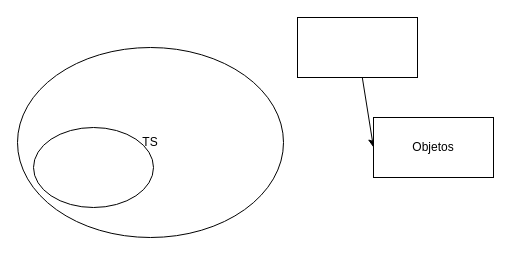
This 511x255 diagram has some shape labels left out. The centre of each missing label's shape, as x and y in pixels:
"CLASE" goes at (357,47).
"JS" goes at (93,167).
